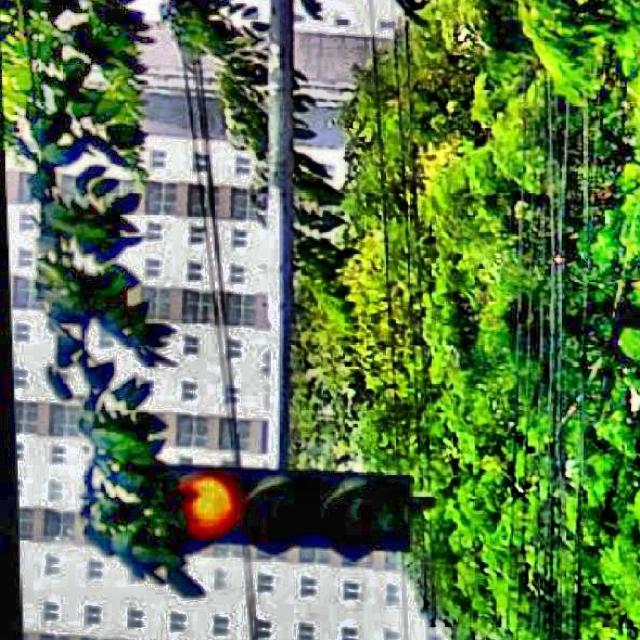red: (150, 465, 406, 560)
